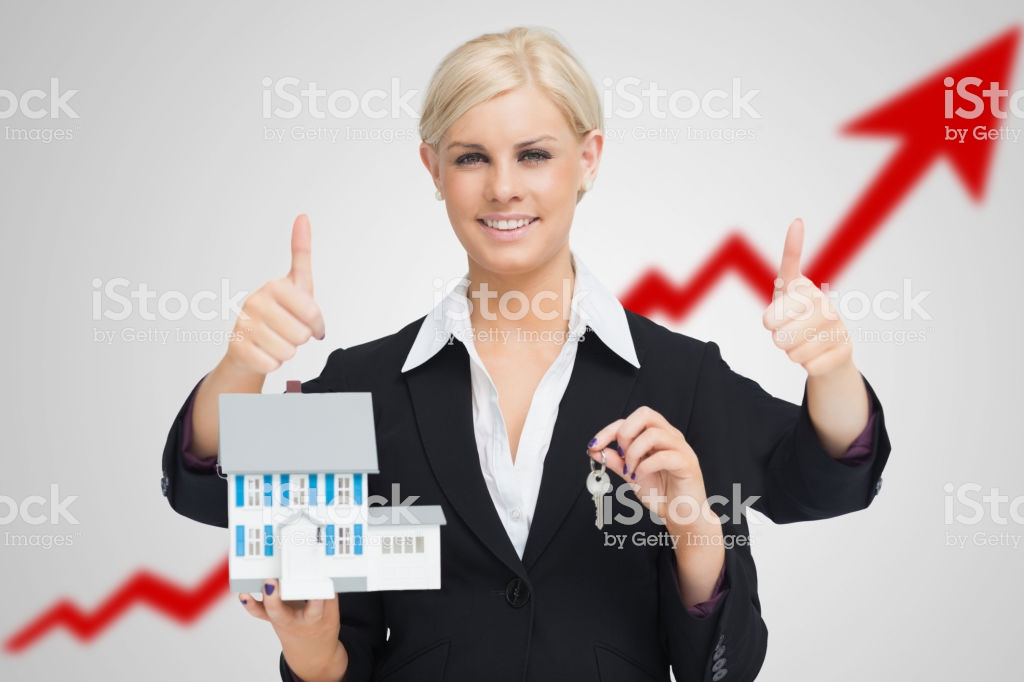thumbsup: (227, 209, 330, 377), (757, 214, 856, 381)
